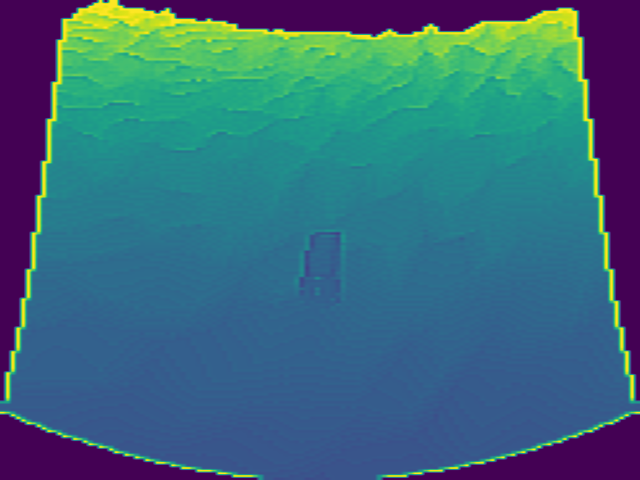car_0198: (298, 230, 346, 300)
